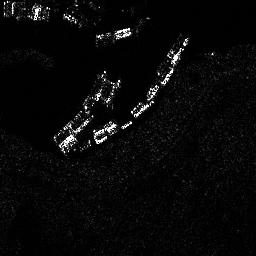ship: (95, 26, 131, 48), (166, 33, 184, 61), (93, 121, 116, 139)
